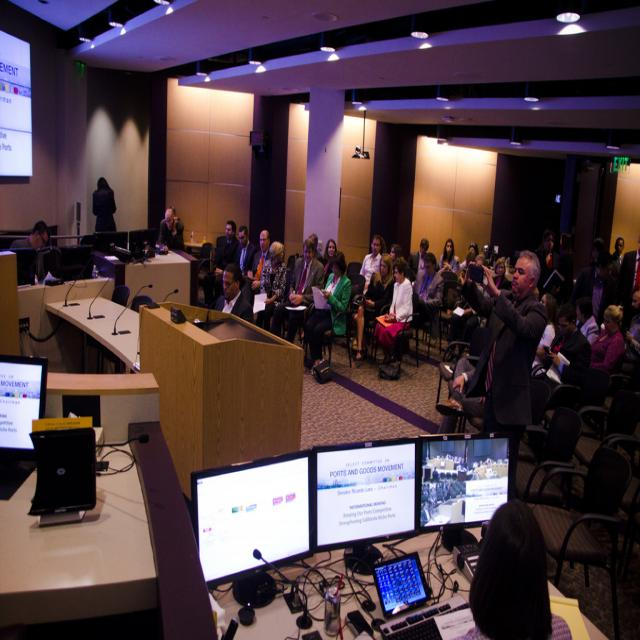chair: (527, 447, 633, 636), (522, 406, 582, 505), (325, 302, 356, 371), (130, 292, 158, 312)
desk: (0, 410, 202, 635)
keyboard: (378, 615, 448, 640)
laptop: (28, 423, 98, 523), (373, 551, 446, 622)
person: (444, 251, 550, 431), (467, 499, 567, 638), (304, 252, 352, 372), (372, 258, 413, 374), (10, 219, 62, 286), (589, 303, 625, 376), (212, 261, 255, 321), (91, 176, 118, 233), (157, 206, 185, 249)
tv: (190, 450, 313, 590), (311, 442, 420, 553), (418, 435, 512, 534), (0, 8, 34, 185), (0, 354, 49, 456)
